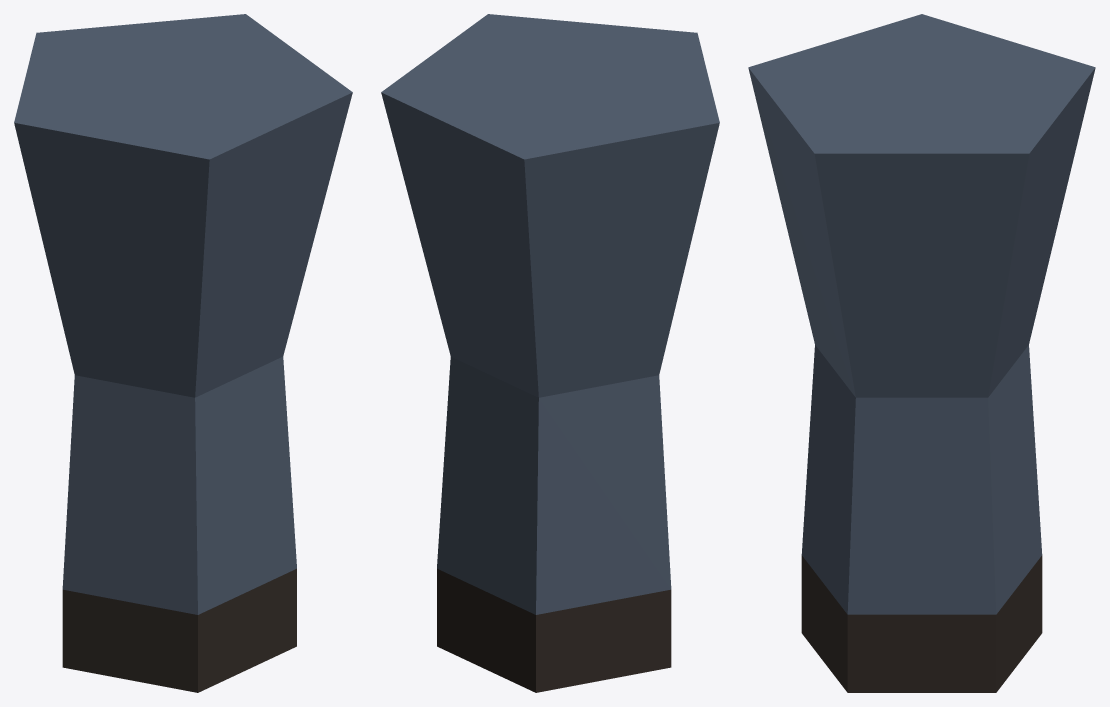
File: animal_muffalo_leg.obj
3 renders of one model, left to right at view 1: azimuth 30°, elevation 25°; view 2: azimuth 150°, elevation 25°; view 3: azimuth 270°, elevation 25°, orthographic.
Visible parts, largest first — view 1: animal_muffalo_leg; view 2: animal_muffalo_leg; view 3: animal_muffalo_leg.
Boxes of the visible parts, box(x1,y1,x2,y2) form: animal_muffalo_leg: box(14, 14, 352, 692); animal_muffalo_leg: box(381, 14, 719, 692); animal_muffalo_leg: box(748, 14, 1095, 692).
Bounding box in the file's own units: 0.254 × 0.4735 × 0.267.
